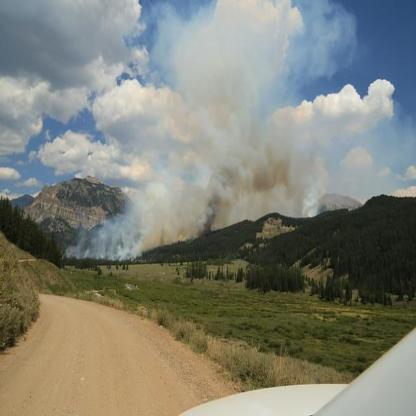smoke: (125, 69, 318, 228)
